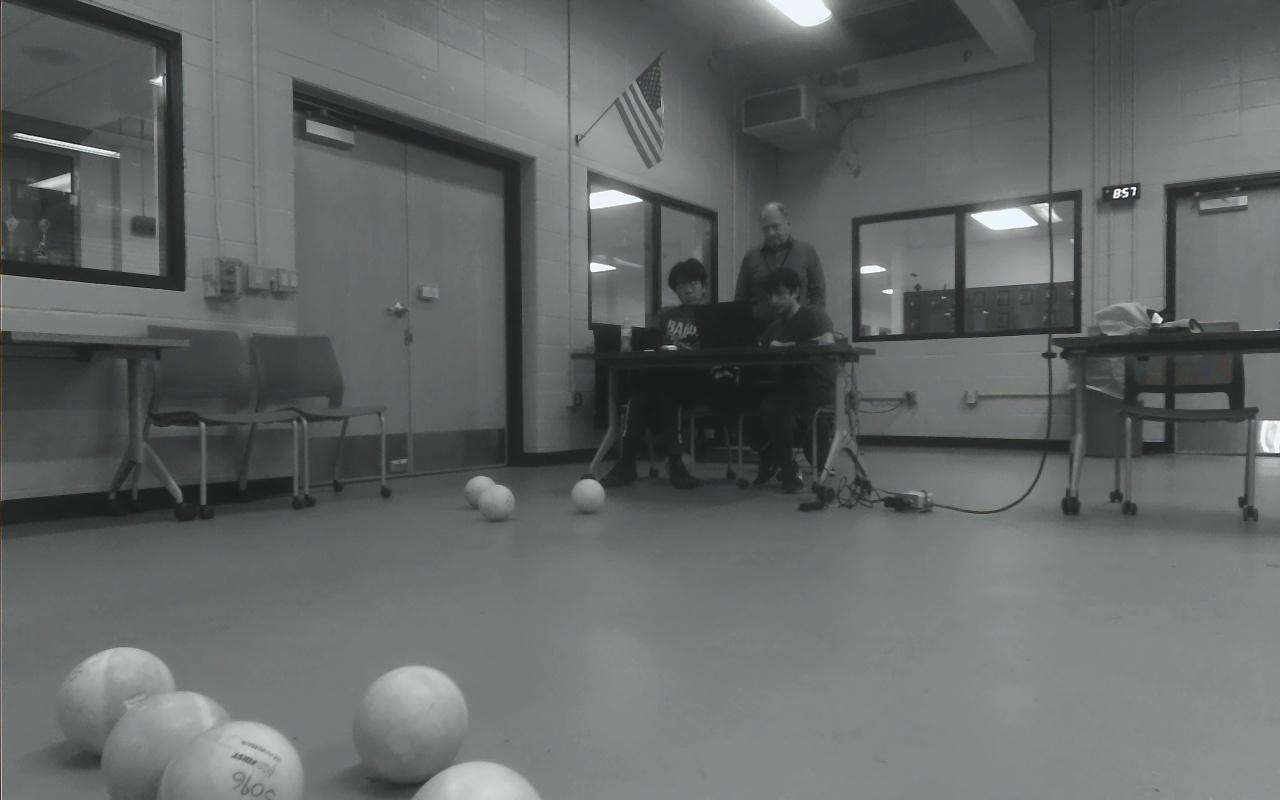Fuel: (101, 691, 232, 800), (352, 665, 468, 782), (56, 647, 177, 756), (157, 720, 305, 800), (412, 761, 540, 800), (477, 484, 515, 521), (572, 478, 607, 514), (466, 476, 497, 509)
